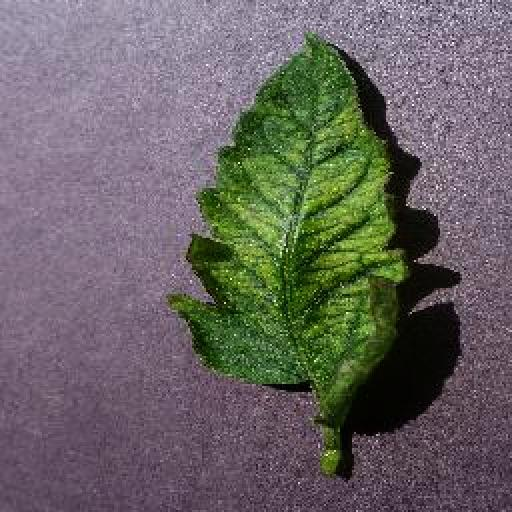disease_tomato: (160, 32, 408, 422)
